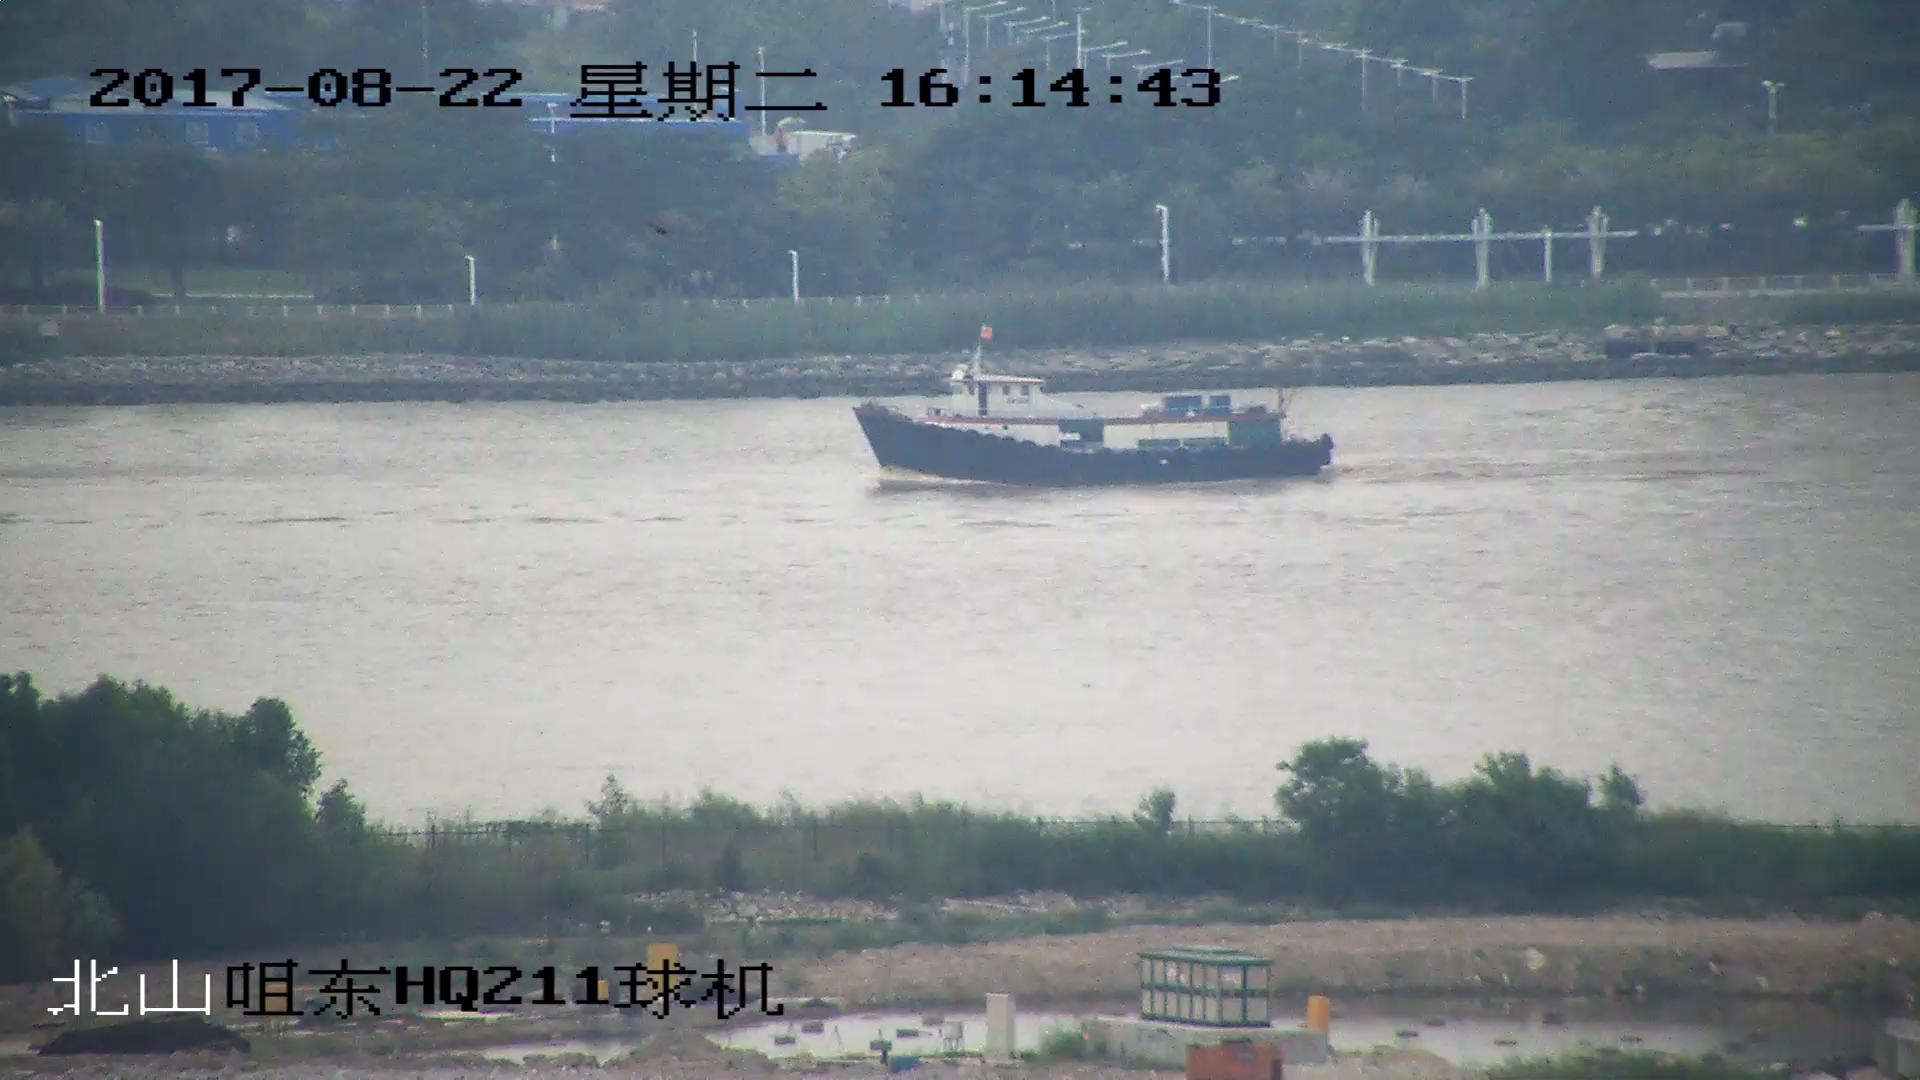fishing boat: (854, 322, 1337, 488)
